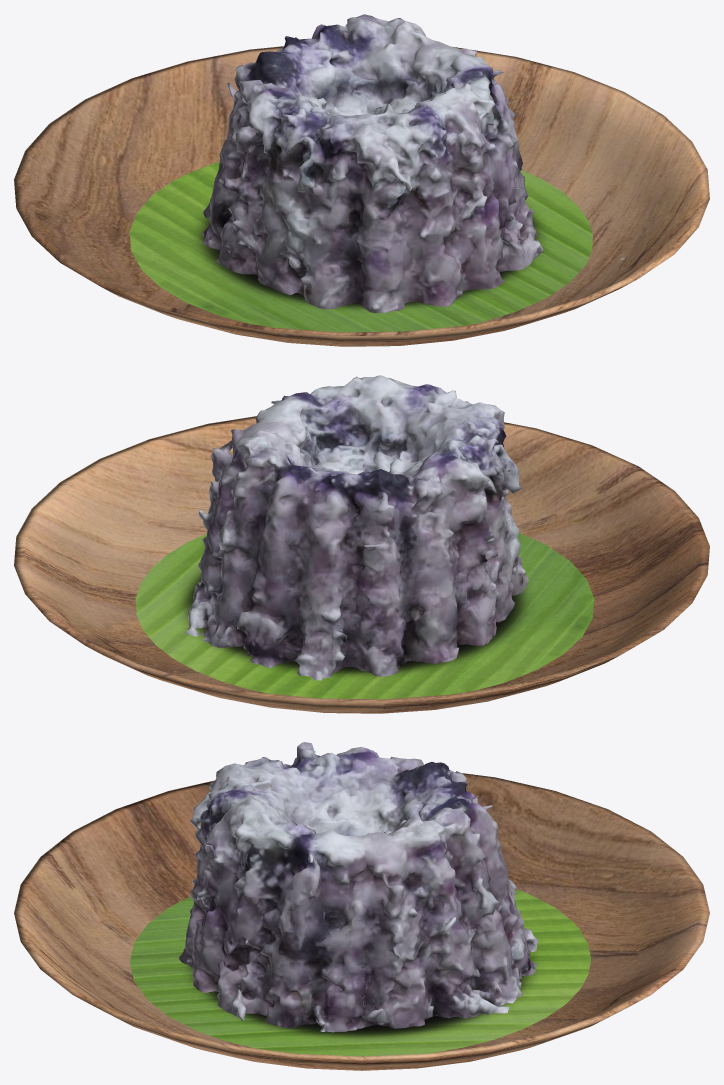
Rendered from purple-cake.glb.
3 renders of one model, top to bottom at view 1: azimuth 30°, elevation 25°; view 2: azimuth 150°, elevation 25°; view 3: azimuth 270°, elevation 25°, orthographic.
Parts seen in each view (by area): view 1: PurpleCake2, Plate, Plane; view 2: PurpleCake2, Plate, Plane; view 3: PurpleCake2, Plate, Plane.
Boxes of the visible parts, <box> form: PurpleCake2: <box>202,14,543,312</box>; Plate: <box>14,46,709,346</box>; Plane: <box>129,162,592,332</box>; PurpleCake2: <box>184,375,528,680</box>; Plate: <box>14,416,709,713</box>; Plane: <box>135,533,594,699</box>; PurpleCake2: <box>179,742,538,1032</box>; Plate: <box>14,773,709,1070</box>; Plane: <box>129,889,590,1056</box>.
Size of the model in its own units: 0.1573 by 0.0512 by 0.1573.
Materials: 3 (3 with a texture image).
